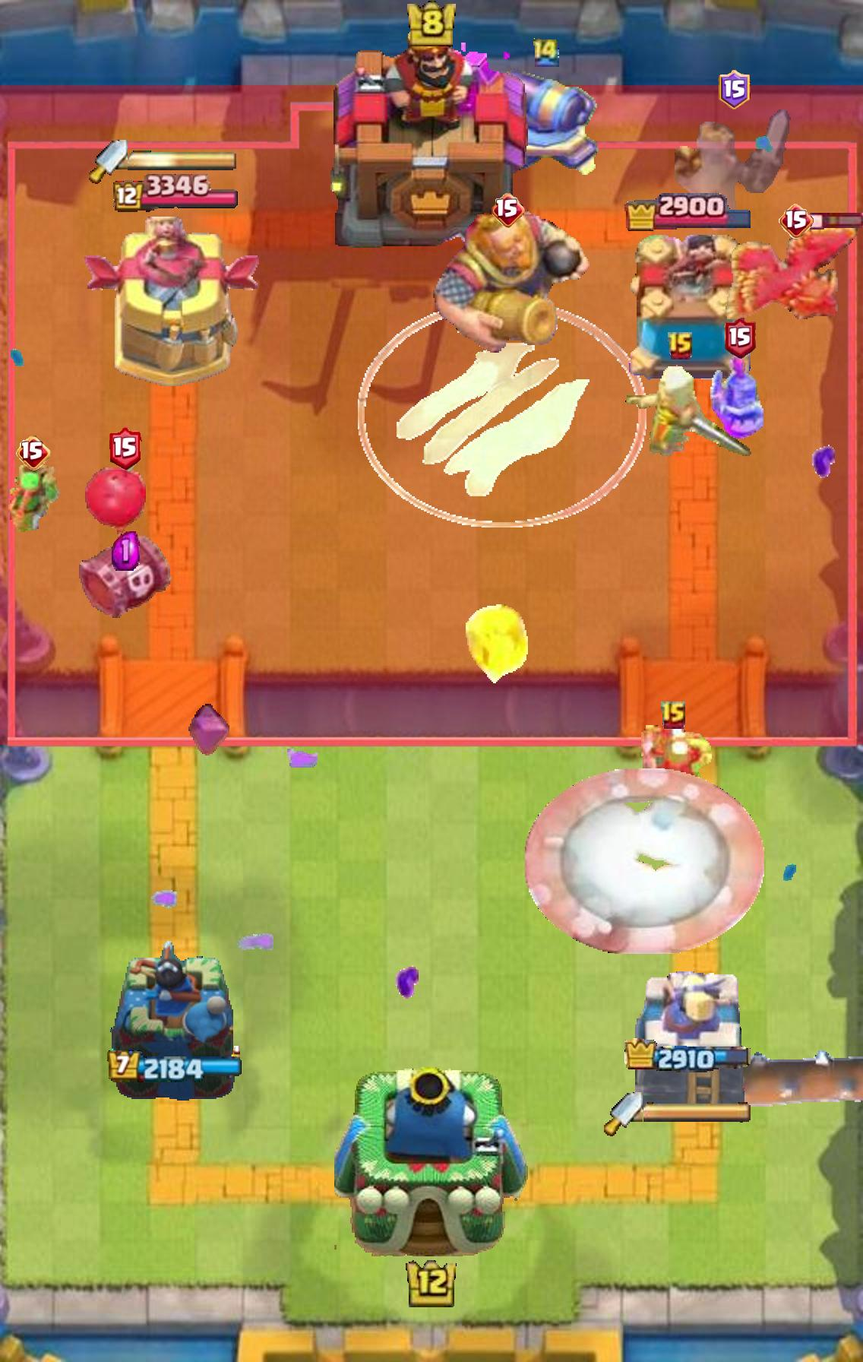cannon: (492, 54, 601, 182)
elixir: (112, 531, 140, 571)
fireball: (462, 600, 535, 695)
